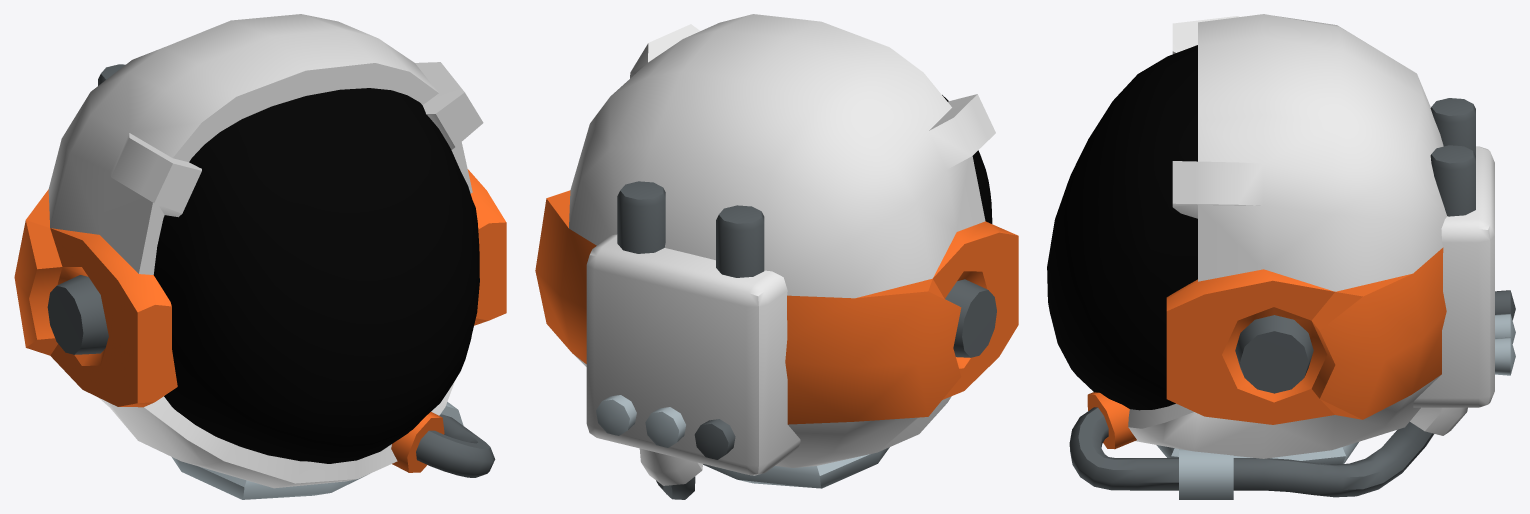
File: helmet_B_visor_opaque.gltf.glb
3 views of the same model, side by side, from view 1: azimuth 30°, elevation 25°; view 2: azimuth 150°, elevation 25°; view 3: azimuth 270°, elevation 25° (orthographic). The views are drawn at different scales.
Visible parts, largest first — view 1: helmet_B_visor_opaque; view 2: helmet_B_visor_opaque; view 3: helmet_B_visor_opaque.
Part boxes in pixels (bbox=[...]): helmet_B_visor_opaque: bbox=[14, 14, 506, 499]; helmet_B_visor_opaque: bbox=[535, 14, 1018, 499]; helmet_B_visor_opaque: bbox=[1047, 14, 1515, 499].
Bounding box in the file's own units: 1.36 × 1.39 × 1.39.
